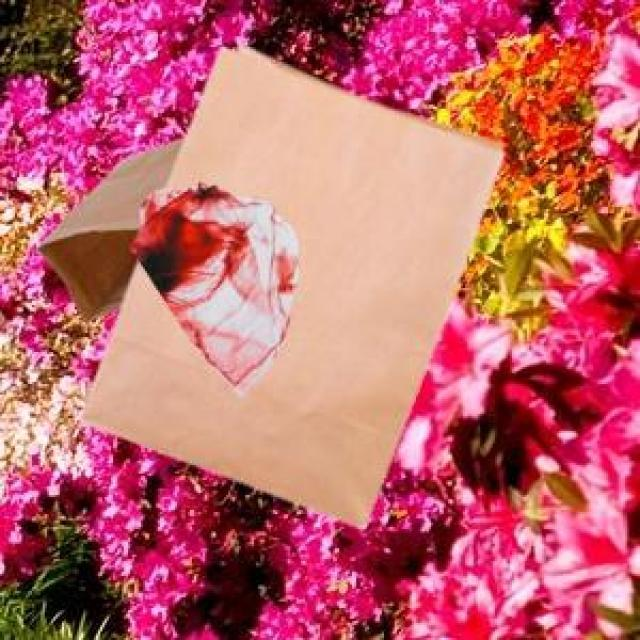paper: (77, 41, 499, 523), (34, 134, 180, 318)
